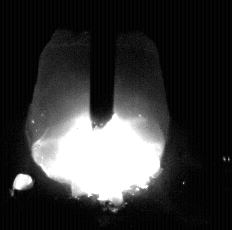arame: (90, 0, 115, 129)
poca: (25, 0, 167, 230)
